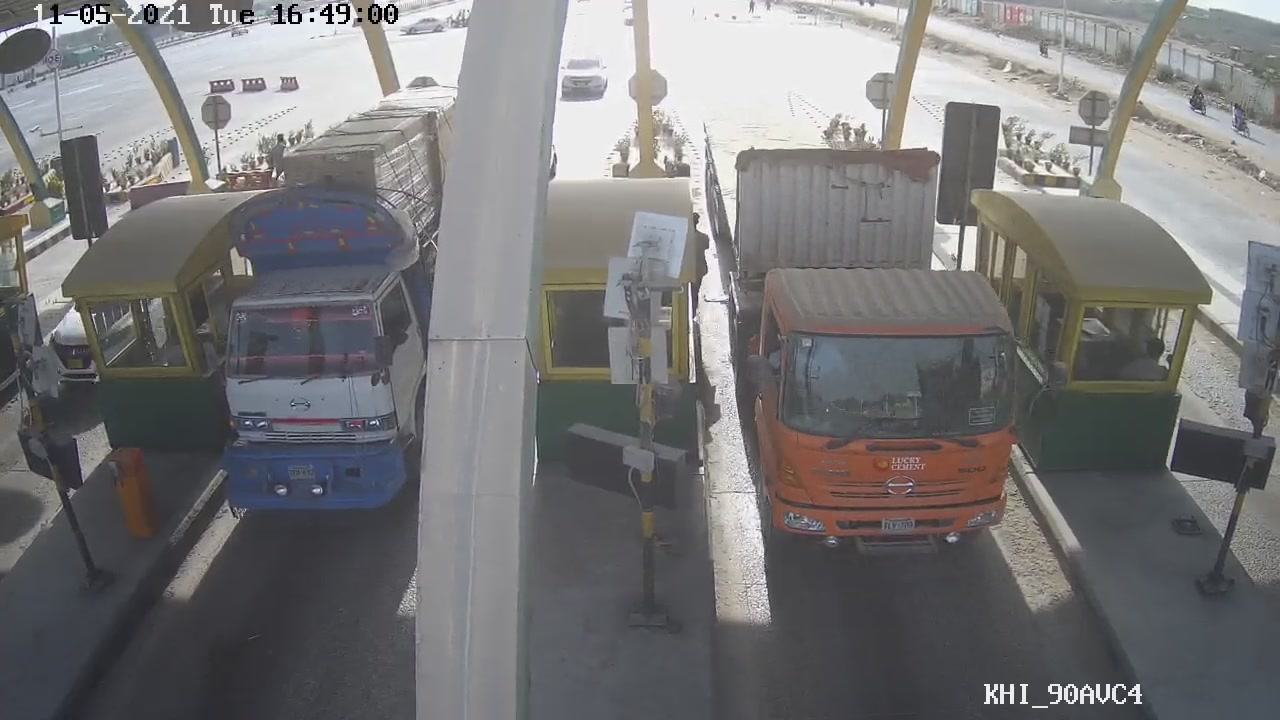F6: (698, 99, 1029, 571)
